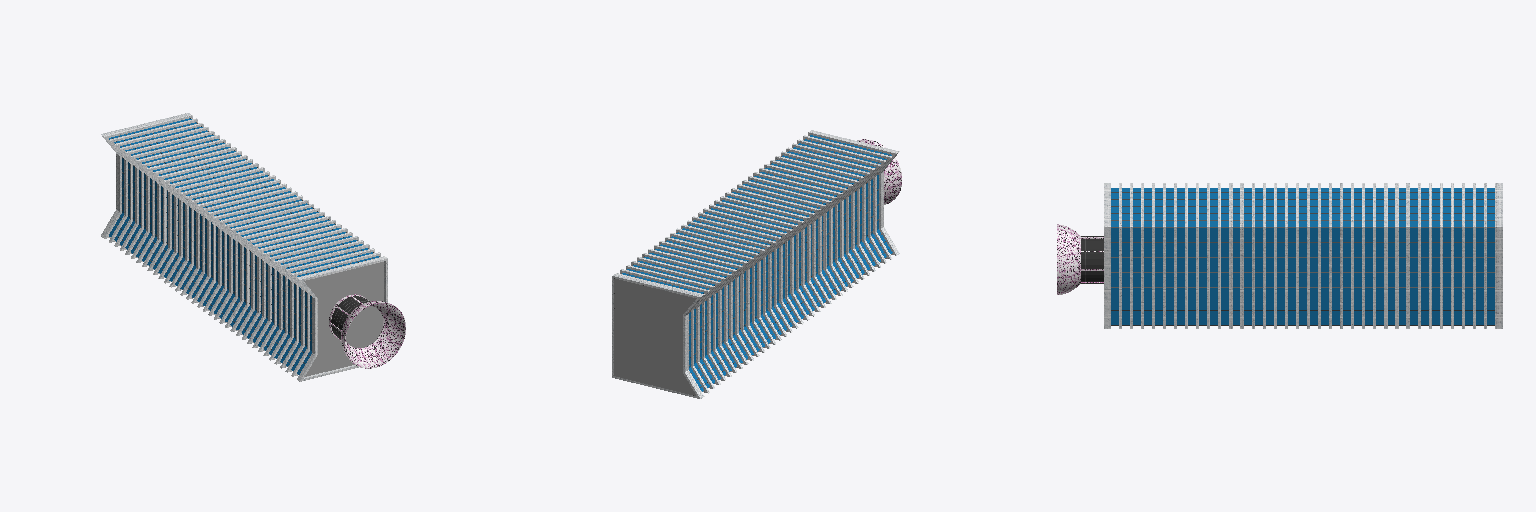
3 renders of one model, left to right at view 1: azimuth 30°, elevation 25°; view 2: azimuth 150°, elevation 25°; view 3: azimuth 270°, elevation 25°, orthographic.
Visible parts, largest first — view 1: wall_03, glass_01, wall_02, slab_01, wall_1_03, frame_01, wall_01; view 2: wall_03, glass_01, wall_02, slab_01, frame_01, wall_01, wall_1_03; view 3: glass_01, wall_02, frame_01, wall_1_03, wall_01, wall_03, glass_1_01.
Part boxes in pixels (bbox=[...]): wall_03: bbox=[105, 116, 387, 381]; glass_01: bbox=[109, 118, 378, 374]; wall_02: bbox=[109, 118, 379, 376]; slab_01: bbox=[304, 262, 383, 376]; wall_1_03: bbox=[330, 294, 405, 368]; frame_01: bbox=[112, 118, 379, 370]; wall_01: bbox=[101, 113, 192, 238]; wall_03: bbox=[612, 130, 899, 398]; glass_01: bbox=[622, 135, 892, 391]; wall_02: bbox=[621, 135, 892, 393]; slab_01: bbox=[614, 279, 696, 395]; frame_01: bbox=[614, 139, 889, 395]; wall_01: bbox=[613, 273, 704, 398]; wall_1_03: bbox=[857, 139, 901, 204]; glass_01: bbox=[1111, 188, 1494, 324]; wall_02: bbox=[1119, 183, 1486, 328]; frame_01: bbox=[1085, 192, 1494, 325]; wall_1_03: bbox=[1057, 224, 1080, 294]; wall_01: bbox=[1495, 183, 1502, 328]; wall_03: bbox=[1104, 183, 1110, 328]; glass_1_01: bbox=[1081, 236, 1103, 283].
Size of the model in its own units: 1104 by 1220 by 4834.
6 materials, 2 textured.